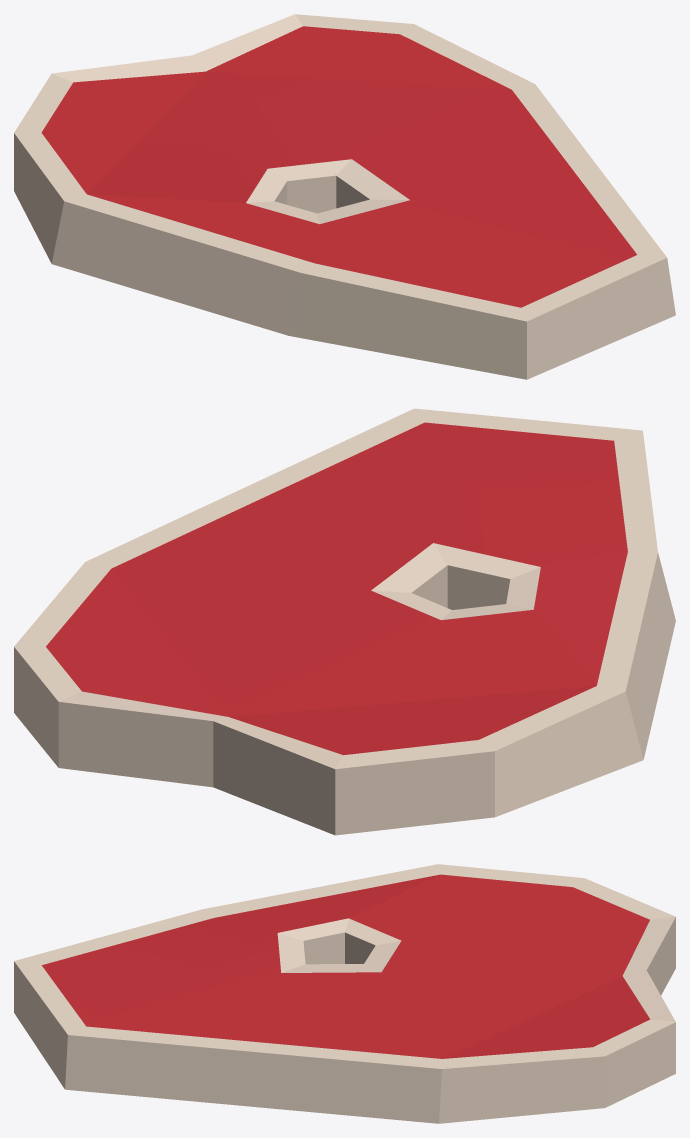
The model's file is food_meat-steak.fbx.
3 renders of one model, top to bottom at view 1: azimuth 30°, elevation 25°; view 2: azimuth 150°, elevation 25°; view 3: azimuth 270°, elevation 25°, orthographic. The views are drawn at different scales.
Parts seen in each view (by area): view 1: food_meat_steak; view 2: food_meat_steak; view 3: food_meat_steak.
Part boxes in pixels (x1,y1,x2,y2): food_meat_steak: (14,14,675,379); food_meat_steak: (14,408,675,835); food_meat_steak: (14,864,675,1123).
Size of the model in its own units: 153 by 18.11 by 200.
